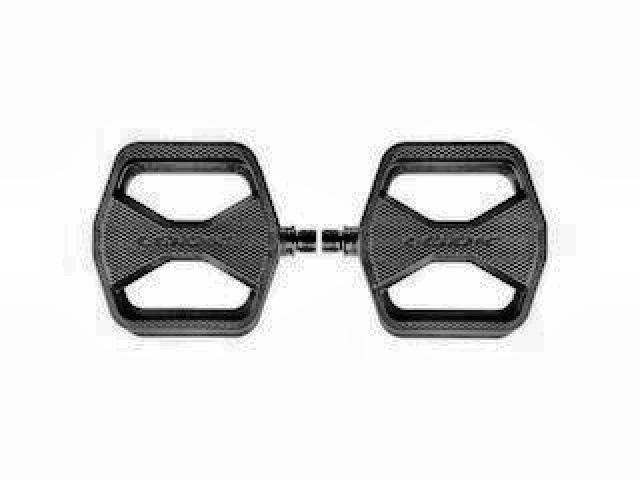pedal: (324, 134, 554, 347), (87, 137, 316, 338)
